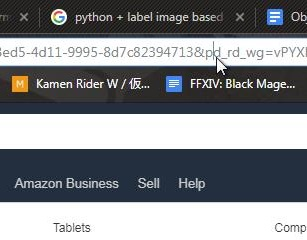cursor: (214, 54, 229, 77)
